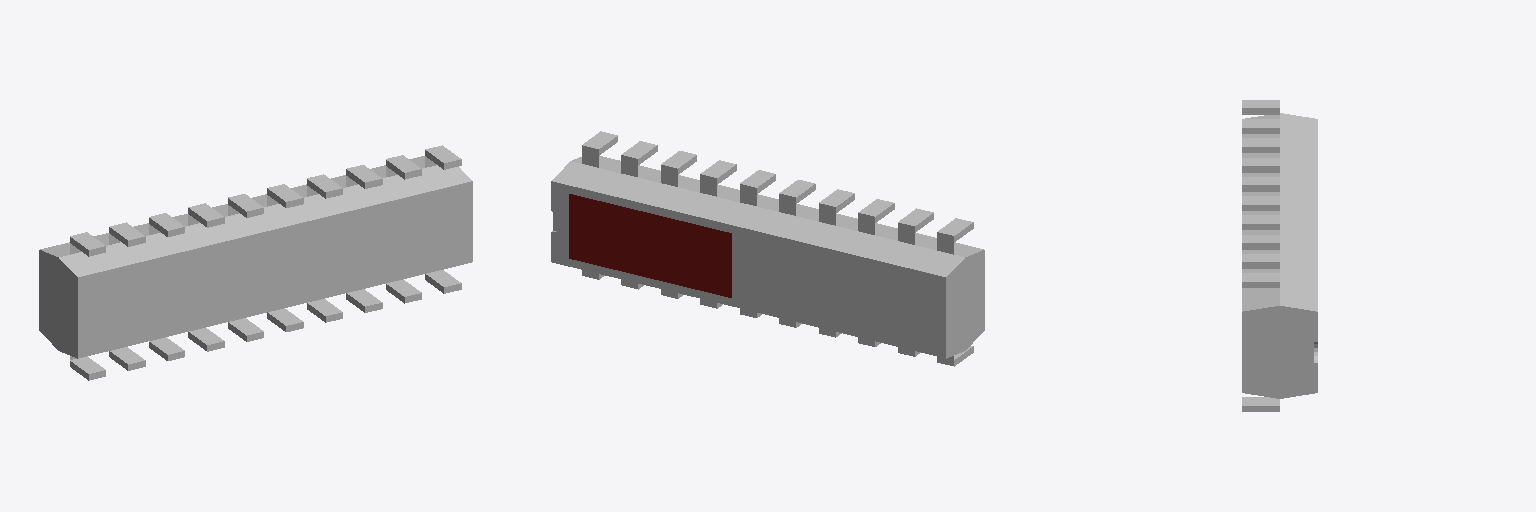
File: DIL20.obj
The picture shows the model from 3 angles: view 1: azimuth 30°, elevation 25°; view 2: azimuth 150°, elevation 25°; view 3: azimuth 270°, elevation 25°; orthographic projection.
Visible parts, largest first — view 1: ShapeIndexedFaceSet.041_ShapeIndexedFaceSet.042, ShapeIndexedFaceSet.019_ShapeIndexedFaceSet.020, ShapeIndexedFaceSet.005_ShapeIndexedFaceSet.006, ShapeIndexedFaceSet.015_ShapeIndexedFaceSet.016, ShapeIndexedFaceSet.009_ShapeIndexedFaceSet.010, ShapeIndexedFaceSet.002_ShapeIndexedFaceSet.003, ShapeIndexedFaceSet.017_ShapeIndexedFaceSet.018, ShapeIndexedFaceSet.011_ShapeIndexedFaceSet.012, ShapeIndexedFaceSet.003_ShapeIndexedFaceSet.004, ShapeIndexedFaceSet.022_ShapeIndexedFaceSet.023, ShapeIndexedFaceSet.013_ShapeIndexedFaceSet.014, ShapeIndexedFaceSet.007_ShapeIndexedFaceSet.008 (+9 smaller); view 2: ShapeIndexedFaceSet.041_ShapeIndexedFaceSet.042, ShapeIndexedFaceSet_ShapeIndexedFaceSet.001, ShapeIndexedFaceSet.013_ShapeIndexedFaceSet.014, ShapeIndexedFaceSet.011_ShapeIndexedFaceSet.012, ShapeIndexedFaceSet.017_ShapeIndexedFaceSet.018, ShapeIndexedFaceSet.007_ShapeIndexedFaceSet.008, ShapeIndexedFaceSet.003_ShapeIndexedFaceSet.004, ShapeIndexedFaceSet.019_ShapeIndexedFaceSet.020, ShapeIndexedFaceSet.009_ShapeIndexedFaceSet.010, ShapeIndexedFaceSet.002_ShapeIndexedFaceSet.003, ShapeIndexedFaceSet.015_ShapeIndexedFaceSet.016, ShapeIndexedFaceSet.005_ShapeIndexedFaceSet.006; view 3: ShapeIndexedFaceSet.041_ShapeIndexedFaceSet.042, ShapeIndexedFaceSet.019_ShapeIndexedFaceSet.020, ShapeIndexedFaceSet.017_ShapeIndexedFaceSet.018, ShapeIndexedFaceSet.015_ShapeIndexedFaceSet.016, ShapeIndexedFaceSet.013_ShapeIndexedFaceSet.014, ShapeIndexedFaceSet.011_ShapeIndexedFaceSet.012, ShapeIndexedFaceSet.009_ShapeIndexedFaceSet.010, ShapeIndexedFaceSet.007_ShapeIndexedFaceSet.008, ShapeIndexedFaceSet.005_ShapeIndexedFaceSet.006, ShapeIndexedFaceSet.003_ShapeIndexedFaceSet.004, ShapeIndexedFaceSet.002_ShapeIndexedFaceSet.003, ShapeIndexedFaceSet.022_ShapeIndexedFaceSet.023.
Boxes of the visible parts, x1=… form: ShapeIndexedFaceSet.041_ShapeIndexedFaceSet.042: x1=39, y1=156, x2=472, y2=358; ShapeIndexedFaceSet.019_ShapeIndexedFaceSet.020: x1=425, y1=145, x2=461, y2=169; ShapeIndexedFaceSet.005_ShapeIndexedFaceSet.006: x1=188, y1=203, x2=224, y2=227; ShapeIndexedFaceSet.015_ShapeIndexedFaceSet.016: x1=346, y1=165, x2=382, y2=188; ShapeIndexedFaceSet.009_ShapeIndexedFaceSet.010: x1=109, y1=222, x2=145, y2=246; ShapeIndexedFaceSet.002_ShapeIndexedFaceSet.003: x1=267, y1=184, x2=303, y2=207; ShapeIndexedFaceSet.017_ShapeIndexedFaceSet.018: x1=386, y1=155, x2=421, y2=179; ShapeIndexedFaceSet.011_ShapeIndexedFaceSet.012: x1=70, y1=232, x2=105, y2=256; ShapeIndexedFaceSet.003_ShapeIndexedFaceSet.004: x1=228, y1=194, x2=263, y2=217; ShapeIndexedFaceSet.022_ShapeIndexedFaceSet.023: x1=425, y1=270, x2=461, y2=293; ShapeIndexedFaceSet.013_ShapeIndexedFaceSet.014: x1=307, y1=174, x2=342, y2=198; ShapeIndexedFaceSet.007_ShapeIndexedFaceSet.008: x1=149, y1=213, x2=184, y2=236; ShapeIndexedFaceSet.041_ShapeIndexedFaceSet.042: x1=551, y1=156, x2=984, y2=358; ShapeIndexedFaceSet_ShapeIndexedFaceSet.001: x1=569, y1=194, x2=731, y2=297; ShapeIndexedFaceSet.013_ShapeIndexedFaceSet.014: x1=700, y1=160, x2=736, y2=184; ShapeIndexedFaceSet.011_ShapeIndexedFaceSet.012: x1=937, y1=218, x2=973, y2=242; ShapeIndexedFaceSet.017_ShapeIndexedFaceSet.018: x1=621, y1=141, x2=657, y2=165; ShapeIndexedFaceSet.007_ShapeIndexedFaceSet.008: x1=858, y1=199, x2=894, y2=222; ShapeIndexedFaceSet.003_ShapeIndexedFaceSet.004: x1=779, y1=180, x2=815, y2=203; ShapeIndexedFaceSet.019_ShapeIndexedFaceSet.020: x1=582, y1=131, x2=617, y2=155; ShapeIndexedFaceSet.009_ShapeIndexedFaceSet.010: x1=898, y1=208, x2=933, y2=232; ShapeIndexedFaceSet.002_ShapeIndexedFaceSet.003: x1=740, y1=170, x2=775, y2=193; ShapeIndexedFaceSet.015_ShapeIndexedFaceSet.016: x1=661, y1=151, x2=696, y2=174; ShapeIndexedFaceSet.005_ShapeIndexedFaceSet.006: x1=819, y1=189, x2=854, y2=213; ShapeIndexedFaceSet.041_ShapeIndexedFaceSet.042: x1=1242, y1=113, x2=1317, y2=398; ShapeIndexedFaceSet.019_ShapeIndexedFaceSet.020: x1=1242, y1=273, x2=1279, y2=287; ShapeIndexedFaceSet.017_ShapeIndexedFaceSet.018: x1=1242, y1=254, x2=1279, y2=268; ShapeIndexedFaceSet.015_ShapeIndexedFaceSet.016: x1=1242, y1=235, x2=1279, y2=249; ShapeIndexedFaceSet.013_ShapeIndexedFaceSet.014: x1=1242, y1=215, x2=1279, y2=229; ShapeIndexedFaceSet.011_ShapeIndexedFaceSet.012: x1=1242, y1=100, x2=1279, y2=114; ShapeIndexedFaceSet.009_ShapeIndexedFaceSet.010: x1=1242, y1=119, x2=1279, y2=133; ShapeIndexedFaceSet.007_ShapeIndexedFaceSet.008: x1=1242, y1=138, x2=1279, y2=152; ShapeIndexedFaceSet.005_ShapeIndexedFaceSet.006: x1=1242, y1=158, x2=1279, y2=172; ShapeIndexedFaceSet.003_ShapeIndexedFaceSet.004: x1=1242, y1=177, x2=1279, y2=191; ShapeIndexedFaceSet.002_ShapeIndexedFaceSet.003: x1=1242, y1=196, x2=1279, y2=210; ShapeIndexedFaceSet.022_ShapeIndexedFaceSet.023: x1=1242, y1=397, x2=1279, y2=411.
Bounding box in the file's own units: 25.4 × 8.02 × 4.26.